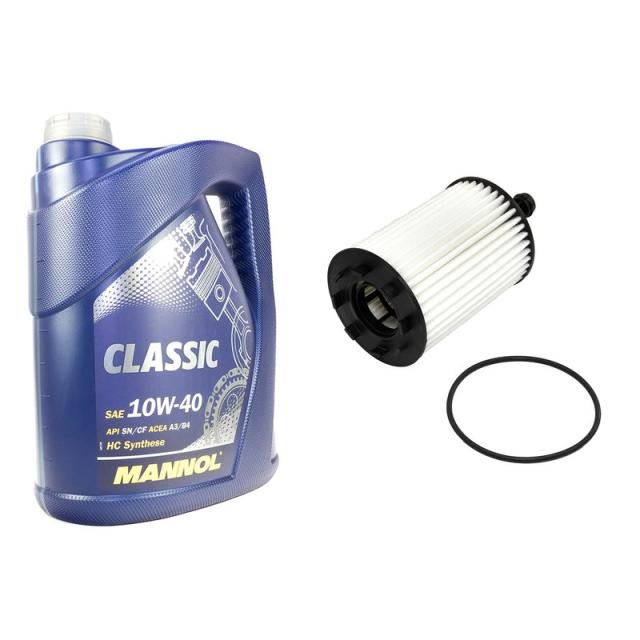motor_oil: (33, 109, 291, 532)
oil_filter: (322, 173, 566, 368)
